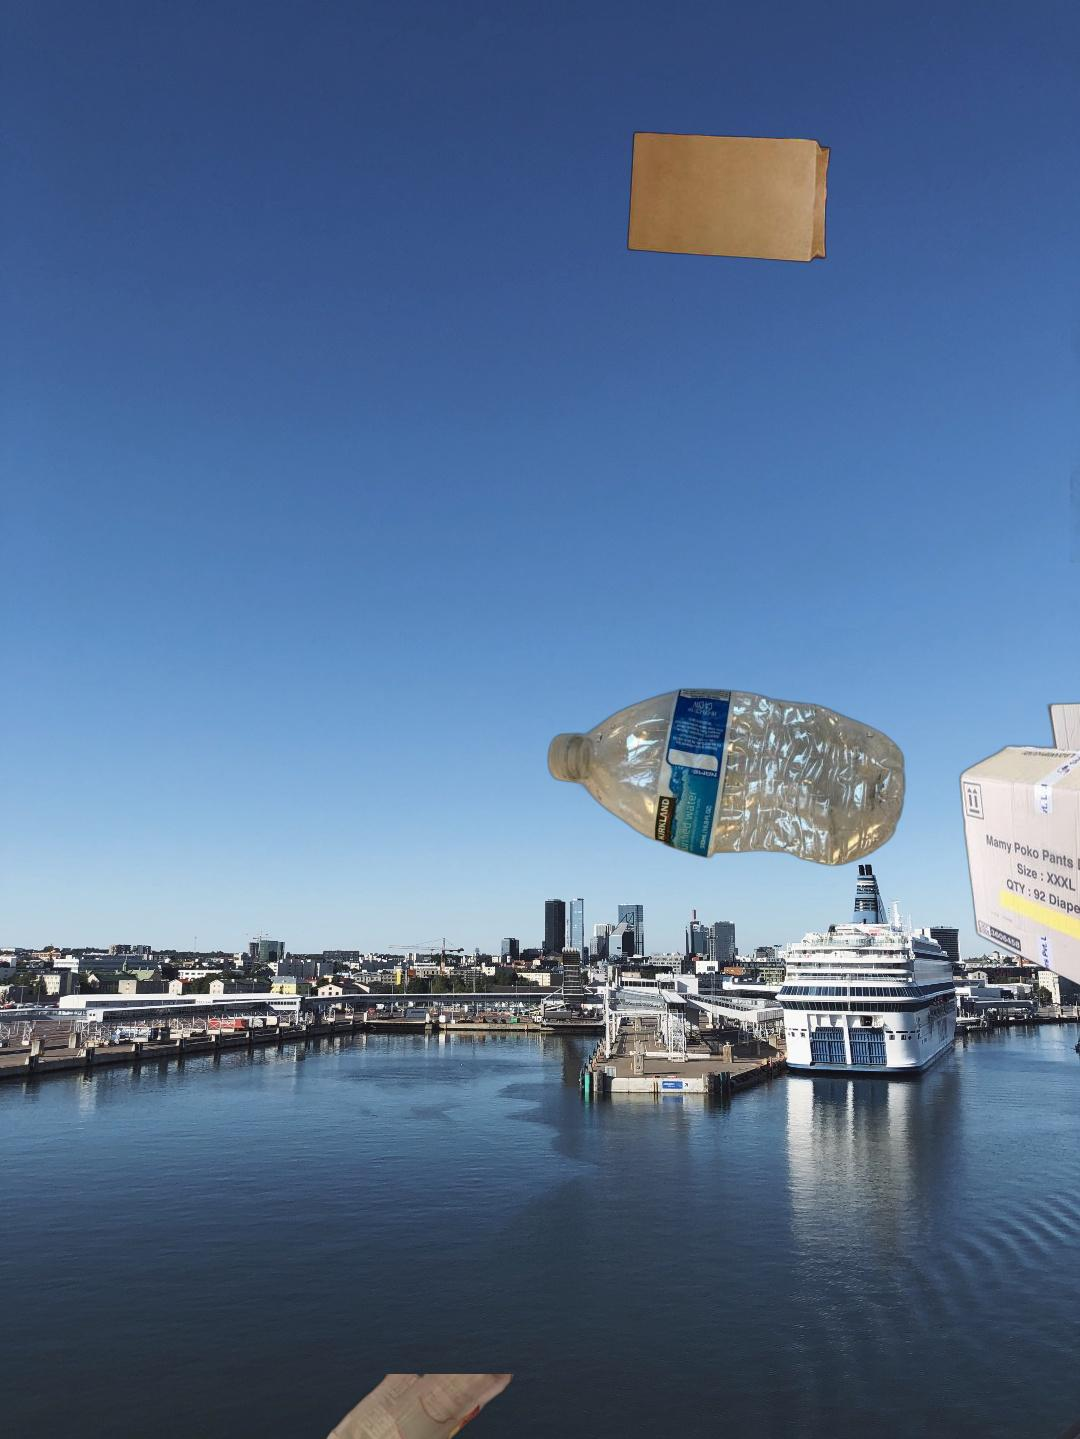glass: (247, 1374, 518, 1439)
paper: (1070, 179, 1080, 562)
paper-bag: (625, 129, 832, 265)
plastic-bottles: (543, 686, 909, 869)
trashbox-cardboard: (956, 691, 1080, 1026)
